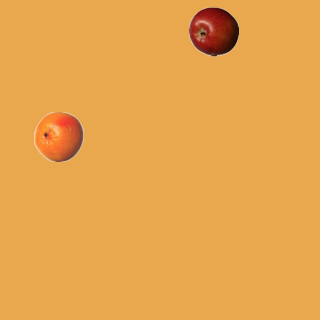Apple Braeburn: (188, 6, 238, 56)
Grapefruit Pink: (33, 111, 83, 161)
